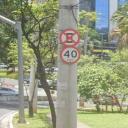speed_limit_40: (60, 47, 81, 65)
